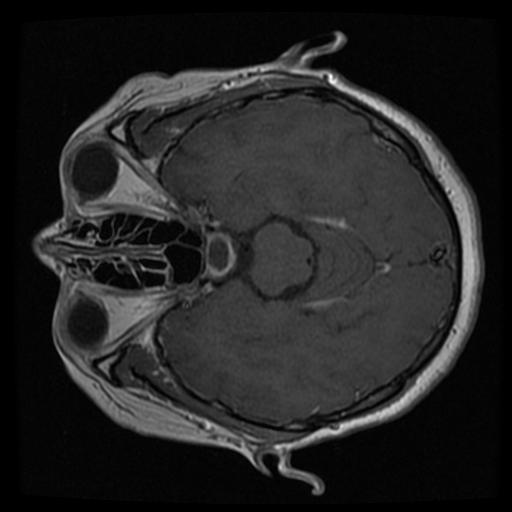pituitary tumour: (202, 227, 237, 283)
